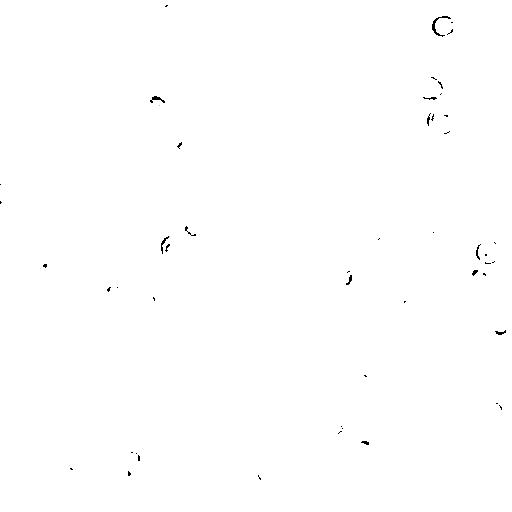micro-algae: (5, 37, 75, 109), (161, 375, 225, 439), (247, 453, 304, 510), (75, 248, 130, 303), (460, 57, 507, 99), (105, 473, 156, 511), (110, 451, 145, 489), (351, 359, 382, 393), (231, 28, 261, 61), (429, 106, 457, 137), (142, 241, 171, 269), (172, 136, 202, 163), (475, 238, 505, 265), (39, 399, 69, 425), (161, 234, 187, 263), (466, 268, 493, 295), (31, 251, 58, 277), (431, 219, 453, 249), (417, 455, 442, 481), (417, 75, 444, 99), (389, 285, 415, 309), (27, 419, 55, 441), (430, 13, 456, 36), (61, 456, 84, 481), (173, 39, 195, 65), (249, 419, 273, 442), (331, 265, 355, 287), (257, 459, 280, 481), (183, 386, 203, 409), (147, 93, 168, 114), (185, 220, 206, 237), (140, 291, 157, 311), (395, 230, 411, 251), (38, 117, 56, 135), (453, 285, 473, 301), (485, 401, 502, 418), (329, 420, 347, 436), (356, 437, 372, 454), (125, 449, 142, 465), (378, 231, 393, 249), (492, 317, 507, 334), (87, 260, 101, 277), (105, 283, 122, 297), (1, 182, 12, 203), (395, 0, 415, 9), (153, 0, 171, 9)
